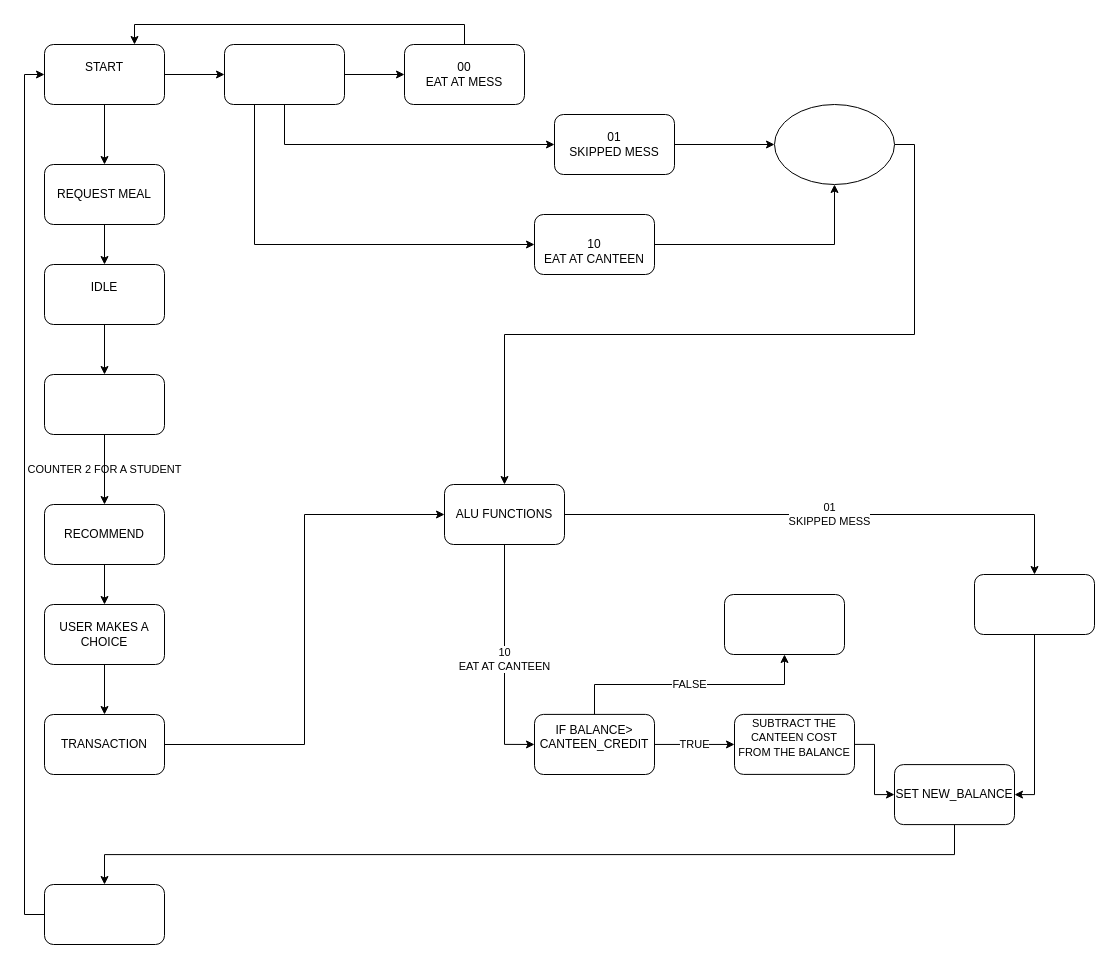
Image size: 1112x962. Some labels were removed from this diagram. The shapes that lost their labels are listed below. From the top down, each one's box as (x1, y1, x2, y2) in pixels, then its label:
(224, 44, 344, 104): SET ACTION_TYPE
(774, 104, 894, 184): DECISION NODE 01 OR 10
(44, 374, 164, 434): AUTH
(724, 594, 844, 654): THROW GARBAGE VALUE
(974, 574, 1094, 634): ADD EQUIVALENT MESS COST TO BALANCE
(44, 884, 164, 944): UPDATE
